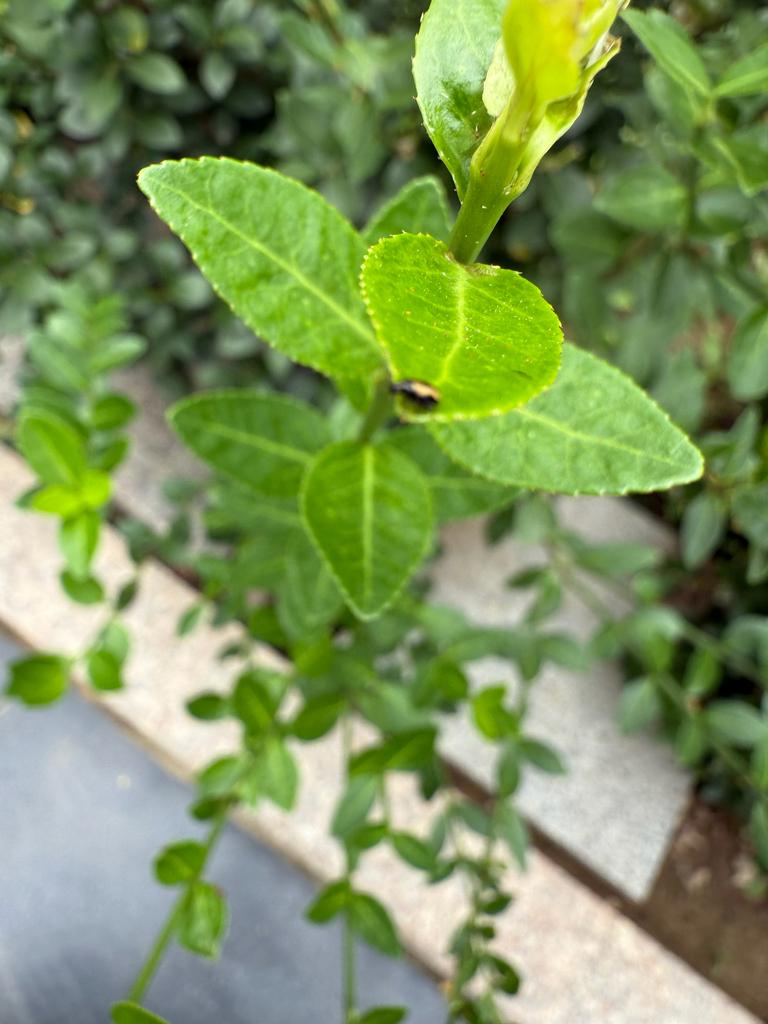flea_beetle: (370, 355, 459, 421)
